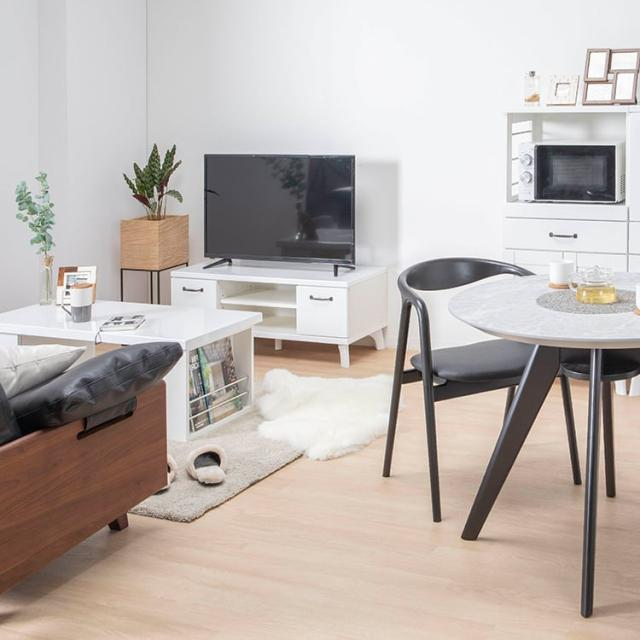natural chair: (382, 255, 583, 525)
natural desk: (451, 267, 640, 619), (0, 294, 261, 442)
natural shelf: (169, 257, 384, 369)
